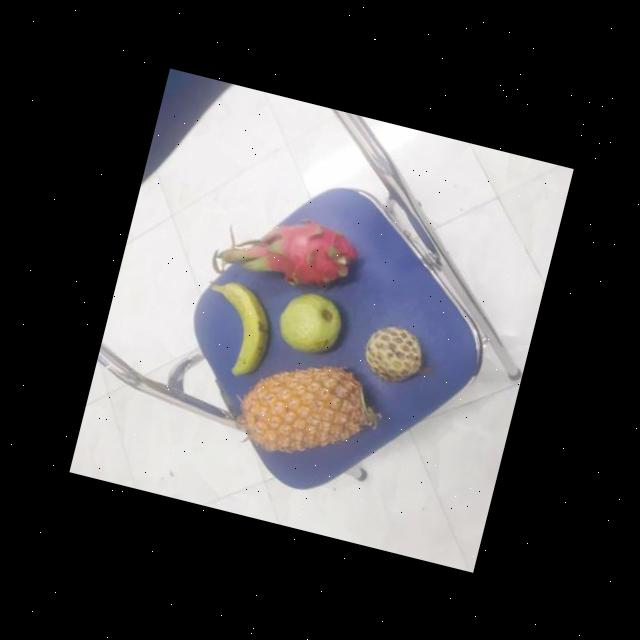Sakya fruit: (357, 320, 429, 392)
banana: (186, 280, 280, 385)
guava: (271, 286, 345, 362)
pineapple: (228, 348, 381, 476)
pitaya: (218, 203, 359, 306)
